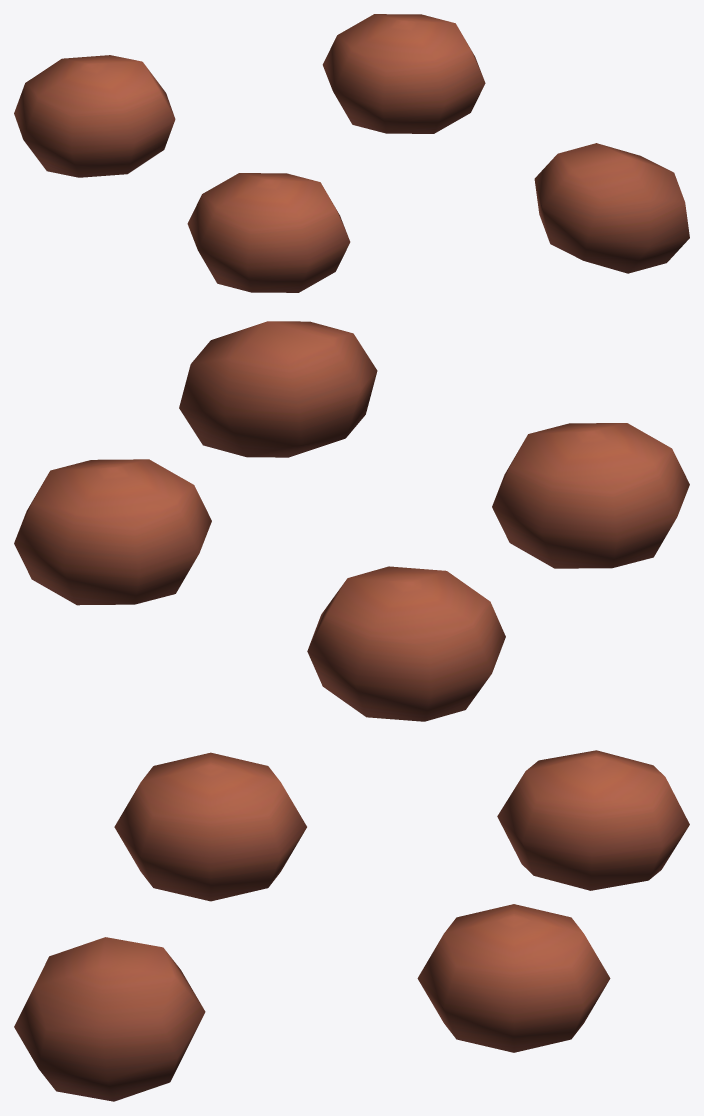
The model's file is beetroot_seed.glb.
3 renders of one model, top to bottom at view 1: azimuth 30°, elevation 25°; view 2: azimuth 150°, elevation 25°; view 3: azimuth 270°, elevation 25°, orthographic. The views are drawn at different scales.
Parts seen in each view (by area): view 1: SM_Beetroot_Seed2; view 2: SM_Beetroot_Seed2; view 3: SM_Beetroot_Seed2.
Part boxes in pixels (x1=…): SM_Beetroot_Seed2: x1=14, y1=14, x2=689, y2=292; SM_Beetroot_Seed2: x1=14, y1=321, x2=689, y2=721; SM_Beetroot_Seed2: x1=14, y1=750, x2=689, y2=1101.
Size of the model in its own units: 0.1704 by 0.0434 by 0.1881.
Materials: 1 (1 with a texture image).
